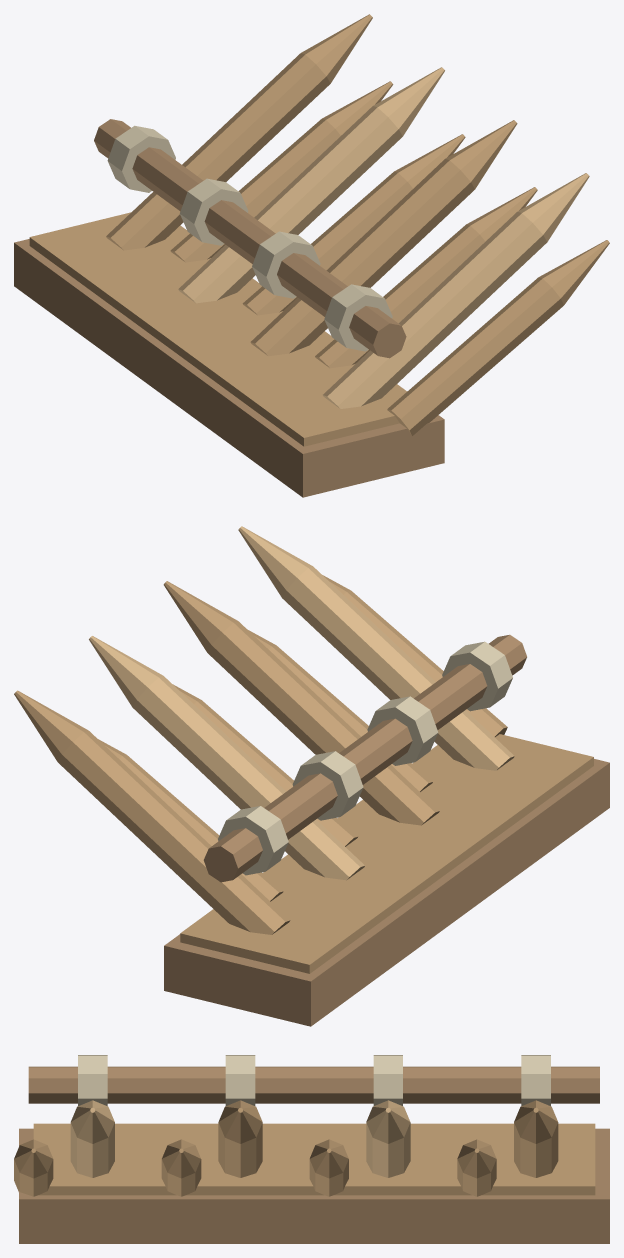
The model's file is ws_gate_barricade_r.glb.
The picture shows the model from 3 angles, top to bottom: view 1: azimuth 30°, elevation 25°; view 2: azimuth 150°, elevation 25°; view 3: azimuth 270°, elevation 25°; orthographic projection. The views are drawn at different scales.
Visible parts, largest first — view 1: ws_gate_barricade_r; view 2: ws_gate_barricade_r; view 3: ws_gate_barricade_r.
Part boxes in pixels (bbox=[...]): ws_gate_barricade_r: bbox=[14, 14, 609, 497]; ws_gate_barricade_r: bbox=[14, 526, 609, 1026]; ws_gate_barricade_r: bbox=[14, 1055, 609, 1243].
Size of the model in its own units: 0.773 by 0.5045 by 1.21.
